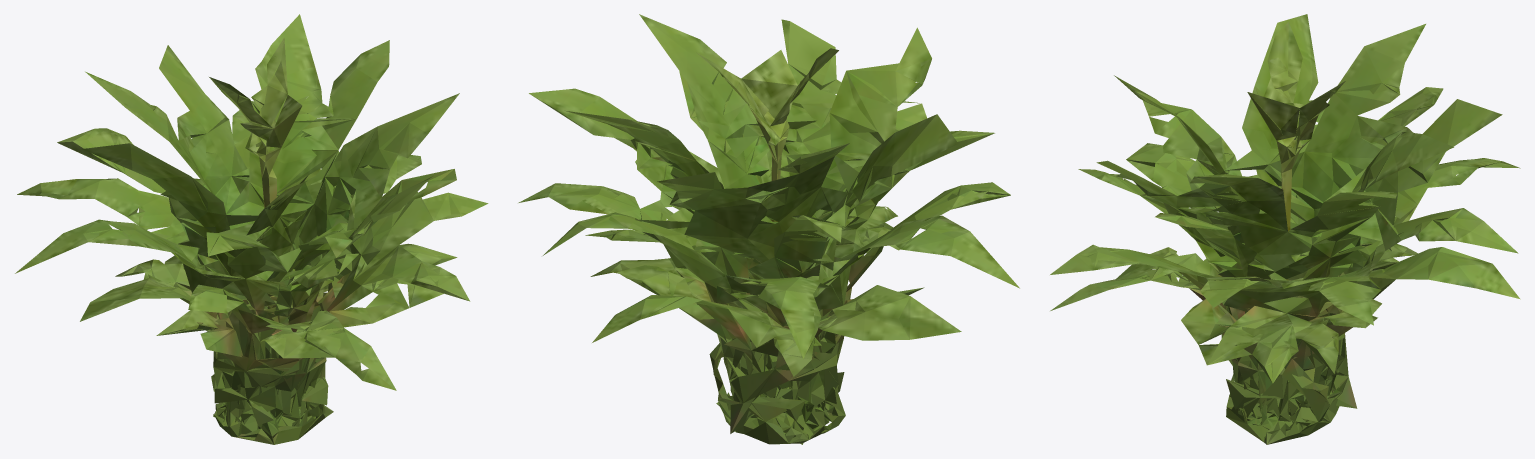
The model's file is fern.glb.
The picture shows the model from 3 angles, left to right: view 1: azimuth 30°, elevation 25°; view 2: azimuth 150°, elevation 25°; view 3: azimuth 270°, elevation 25°; orthographic projection. The views are drawn at different scales.
Visible parts, largest first — view 1: fern; view 2: fern; view 3: fern.
Part boxes in pixels (box(x1,y1,x2,y2)): fern: box(15, 14, 488, 444); fern: box(518, 14, 1019, 444); fern: box(1050, 14, 1520, 444).
Bounding box in the file's own units: 0.7549 × 0.6 × 0.6907.
1 material, 1 textured.
